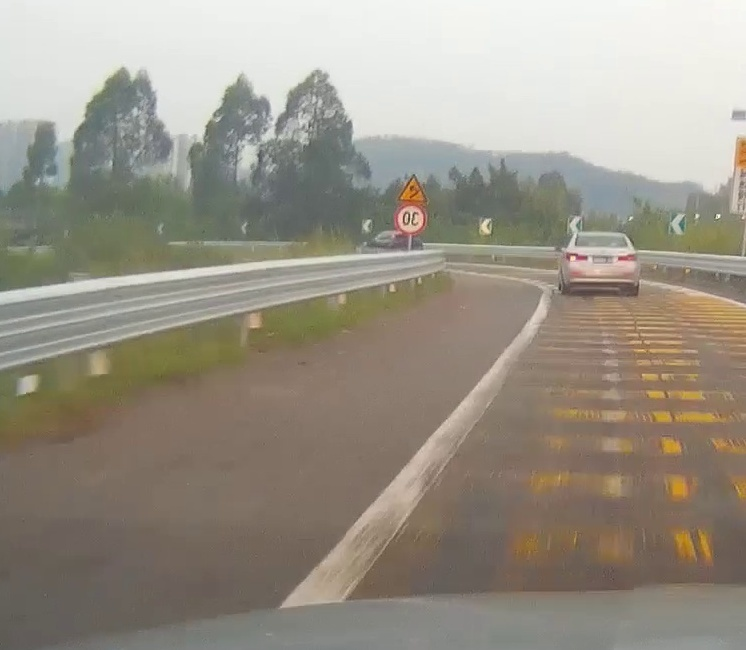L_light: (566, 252, 588, 261)
R_light: (618, 254, 637, 260)
T_light: (598, 235, 610, 238)
day-left: (564, 233, 641, 294)
